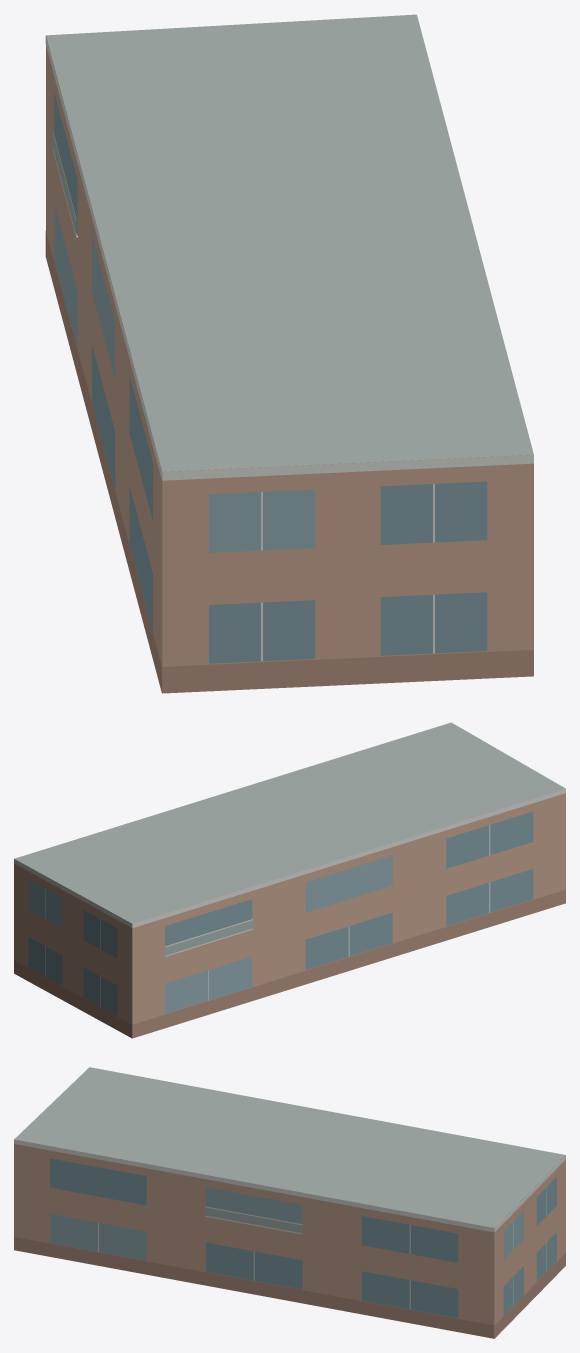
File: survey-upis-32826628.glb
3 renders of one model, top to bottom at view 1: azimuth 30°, elevation 25°; view 2: azimuth 150°, elevation 25°; view 3: azimuth 270°, elevation 25°, orthographic. The views are drawn at different scales.
Visible parts, largest first — view 1: survey-upis-32826628.tmp; view 2: survey-upis-32826628.tmp; view 3: survey-upis-32826628.tmp.
Part boxes in pixels (x1,y1,x2,y2): survey-upis-32826628.tmp: (45,14,533,693); survey-upis-32826628.tmp: (14,722,565,1038); survey-upis-32826628.tmp: (14,1067,565,1338).
Bounding box in the file's own units: 19.02 × 6.1 × 27.55.
